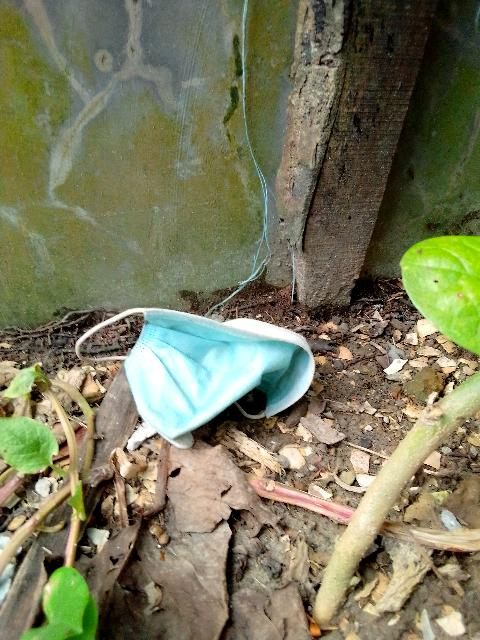mask: (107, 296, 324, 437)
